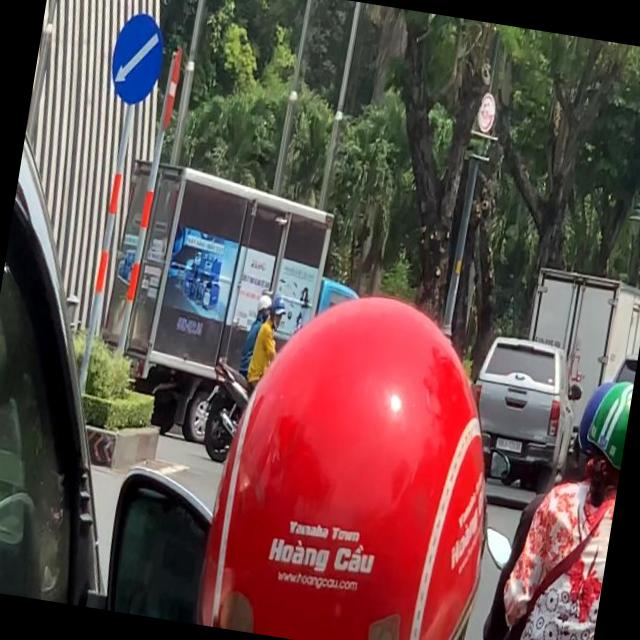R-302b: (104, 8, 167, 108)
